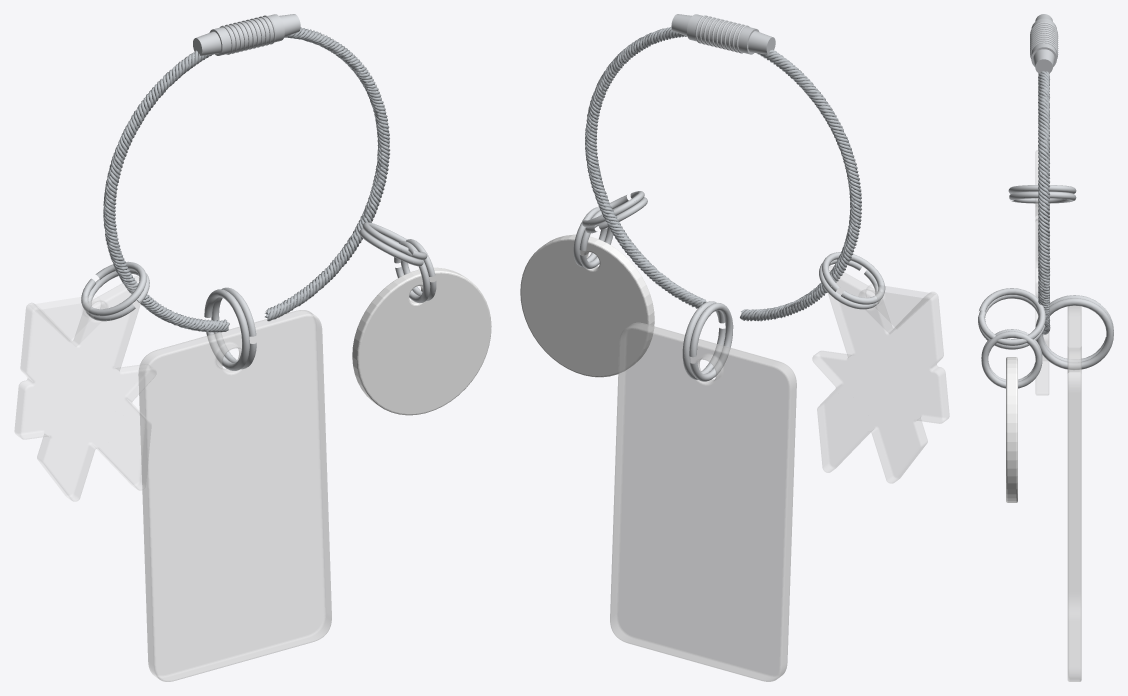
File: charm.glb
The picture shows the model from 3 angles, left to right: view 1: azimuth 30°, elevation 25°; view 2: azimuth 150°, elevation 25°; view 3: azimuth 270°, elevation 25°; orthographic projection. The views are drawn at different scales.
Visible parts, largest first — view 1: tag_rect_frosted, charm_mark_clear, charm_disc_chrome, cable_strand_2, cable_strand_1, cable_strand_5, cable_strand_3, cable_strand_4, lock_barrel, cable_core, split_ring_tag_coil_a, split_ring_mark_coil_a (+3 smaller); view 2: tag_rect_frosted, charm_mark_clear, charm_disc_chrome, cable_strand_2, cable_strand_1, cable_strand_5, cable_strand_4, cable_strand_3, split_ring_tag_coil_a, lock_barrel, cable_core, split_ring_mark_coil_a (+2 smaller); view 3: tag_rect_frosted, charm_disc_chrome, split_ring_tag_coil_b, split_ring_disc_coil_b, split_ring_disc_link_coil_b, charm_mark_clear, cable_strand_1, cable_strand_5, cable_strand_2, cable_strand_3, cable_strand_4, split_ring_mark_coil_b (+6 smaller).
Part boxes in pixels (box(x1,y1,x2,y2)): tag_rect_frosted: box(138, 310, 331, 681); charm_mark_clear: box(14, 276, 156, 501); charm_disc_chrome: box(352, 267, 491, 415); cable_strand_2: box(103, 28, 389, 331); cable_strand_1: box(103, 27, 389, 332); cable_strand_5: box(103, 30, 389, 332); cable_strand_3: box(103, 29, 390, 332); cable_strand_4: box(103, 29, 389, 332); lock_barrel: box(209, 14, 284, 55); cable_core: box(105, 29, 388, 328); split_ring_tag_coil_a: box(204, 289, 249, 370); split_ring_mark_coil_a: box(81, 261, 146, 316); tag_rect_frosted: box(610, 322, 796, 681); charm_mark_clear: box(812, 266, 949, 483); charm_disc_chrome: box(520, 234, 654, 377); cable_strand_2: box(585, 27, 861, 321); cable_strand_1: box(585, 27, 861, 321); cable_strand_5: box(585, 29, 861, 321); cable_strand_4: box(585, 28, 861, 320); cable_strand_3: box(585, 28, 861, 321); split_ring_tag_coil_a: box(689, 303, 733, 381); lock_barrel: box(687, 14, 759, 54); cable_core: box(589, 31, 860, 319); split_ring_mark_coil_a: box(822, 252, 885, 304); tag_rect_frosted: box(1067, 305, 1081, 681); charm_disc_chrome: box(1006, 357, 1017, 502); split_ring_tag_coil_b: box(1036, 298, 1113, 369); split_ring_disc_coil_b: box(978, 288, 1045, 345); split_ring_disc_link_coil_b: box(981, 331, 1042, 388); charm_mark_clear: box(1035, 150, 1049, 395); cable_strand_1: box(1038, 73, 1050, 333); cable_strand_5: box(1038, 71, 1050, 334); cable_strand_2: box(1038, 76, 1049, 334); cable_strand_3: box(1038, 73, 1049, 334); cable_strand_4: box(1038, 71, 1049, 332); split_ring_mark_coil_b: box(1009, 191, 1076, 203).
Size of the model in its own units: 0.1461 by 0.2006 by 0.0401.
Materials: 3 (3 with a texture image).
